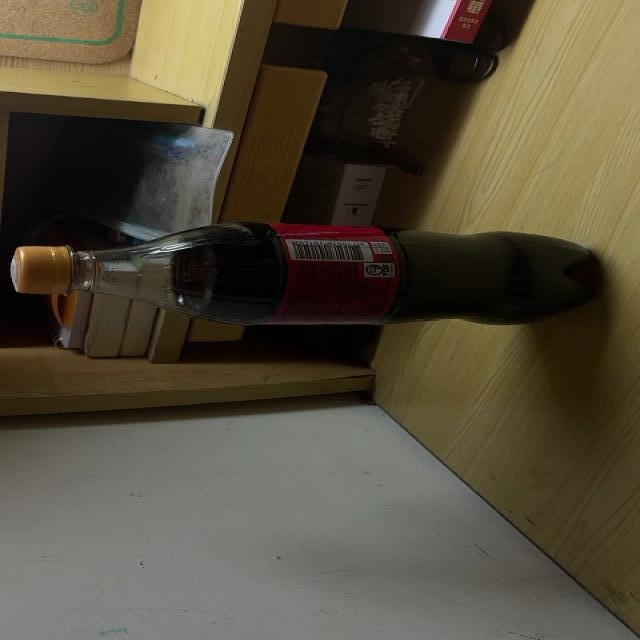Coca-Cola: (9, 223, 606, 325)
